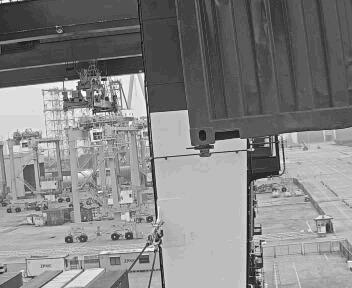twist_lock_1: (199, 142, 225, 163)
